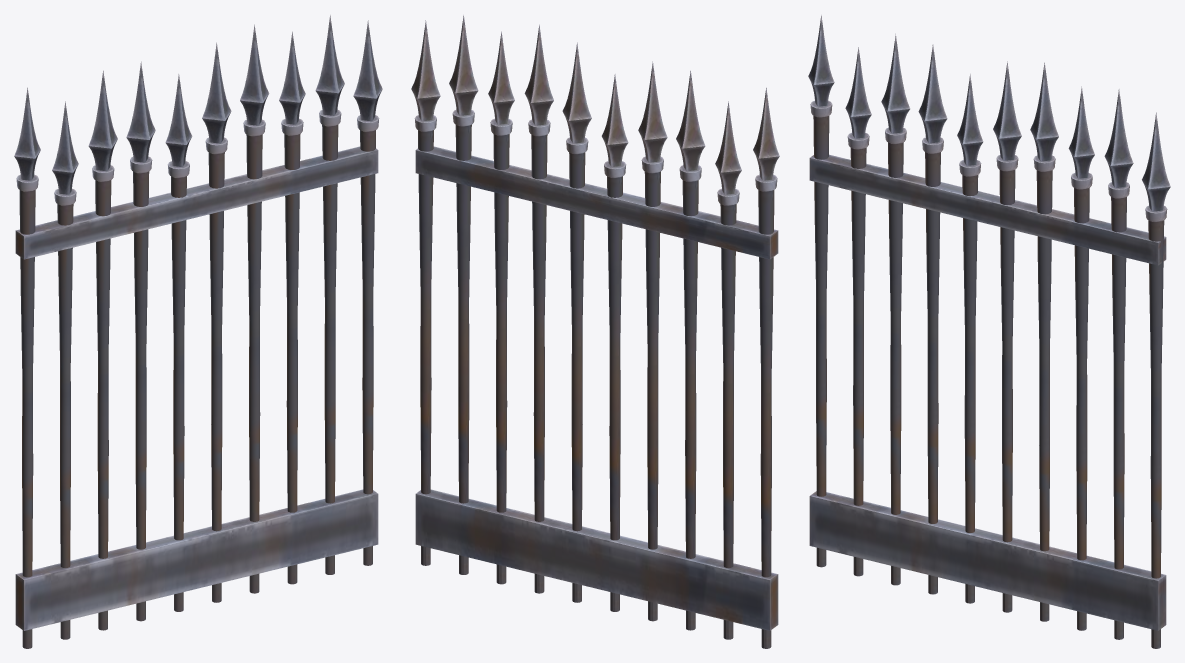
The model's file is fence-qm-propmetalfencesimple.glb.
3 renders of one model, left to right at view 1: azimuth 30°, elevation 25°; view 2: azimuth 150°, elevation 25°; view 3: azimuth 330°, elevation 25°, orthographic.
Parts seen in each view (by area): view 1: Torus_011; view 2: Torus_011; view 3: Torus_011.
Boxes of the visible parts, x1,y1,x2,y2 form: Torus_011: (14,15,382,648); Torus_011: (411,15,779,648); Torus_011: (808,15,1170,648).
Bounding box in the file's own units: 1.95 × 2.87 × 0.1561.
1 material, 1 textured.
